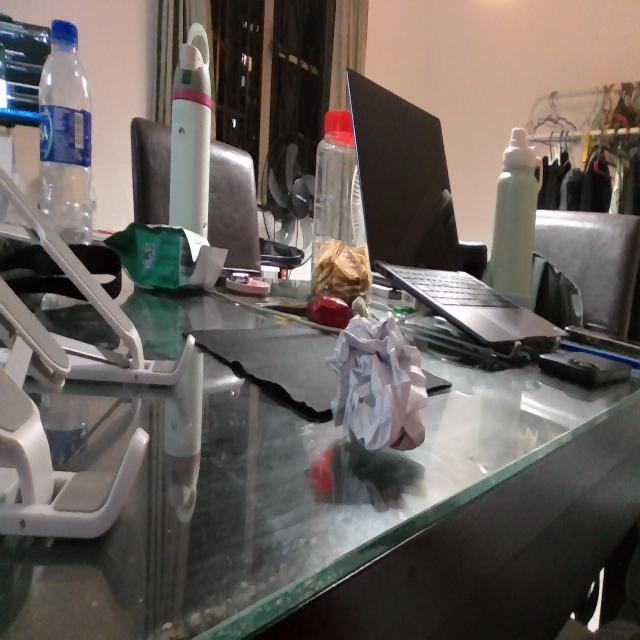crumpled_paper: (330, 306, 430, 459)
